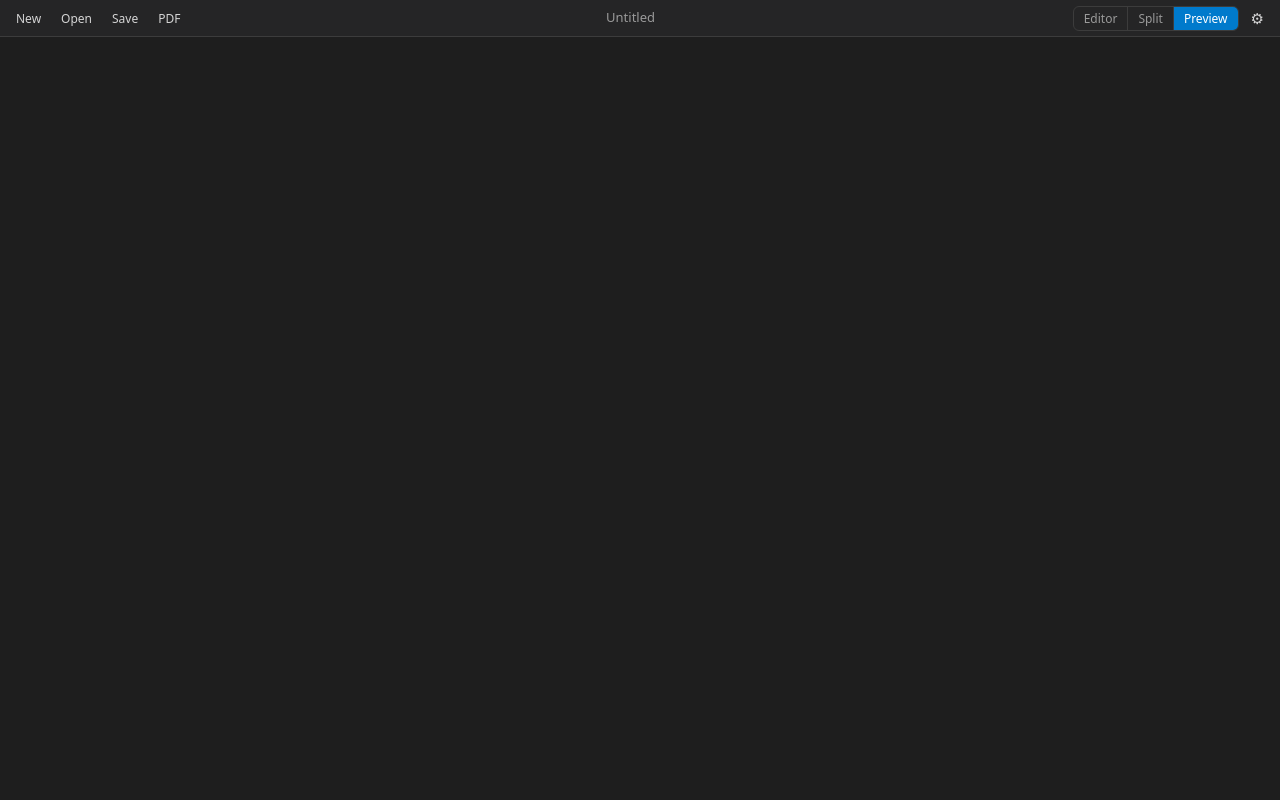
App shell › shows the editor after switching to split via the toolbar
Click the button "Split": (1150,18) [1127, 6, 1173, 30]
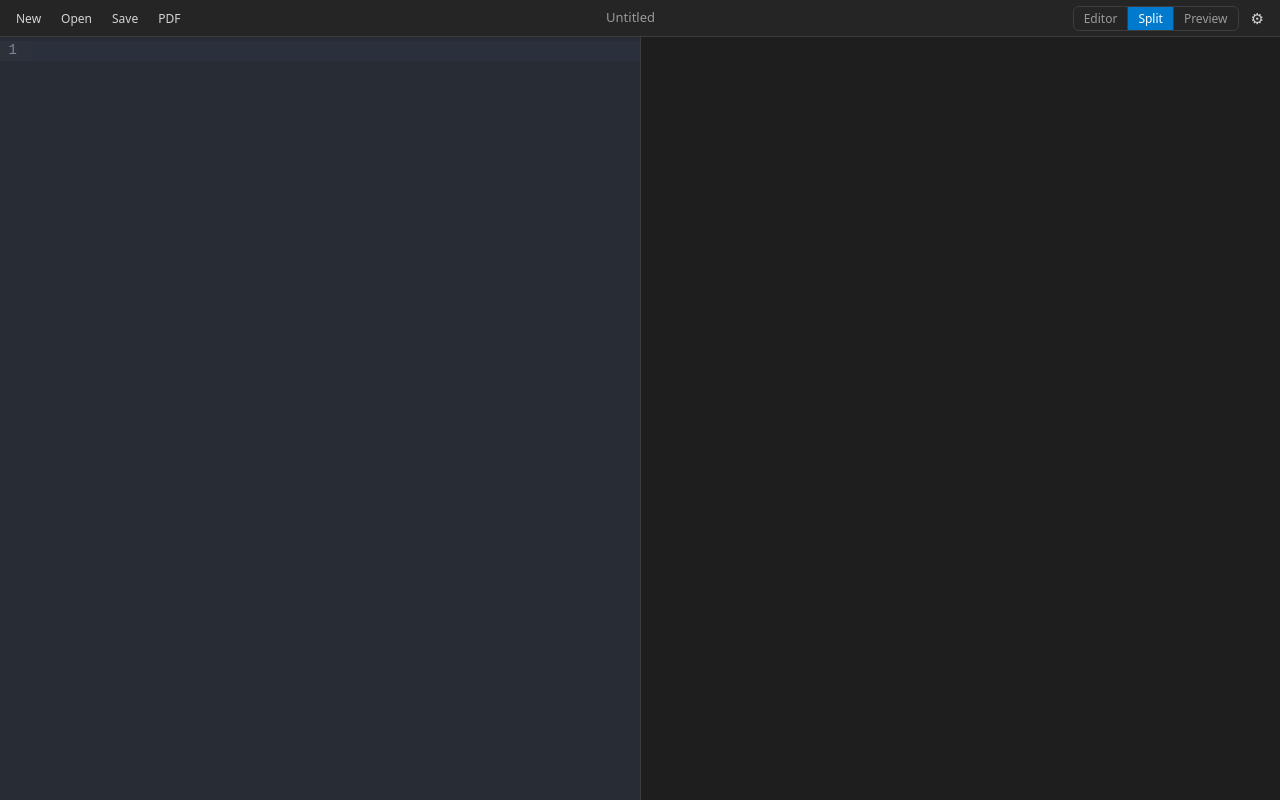
Check: the element named "Markdown preview" is shown, box [640, 37, 1279, 799]
Check: the element named "Markdown editor" is shown, box [0, 37, 640, 799]
